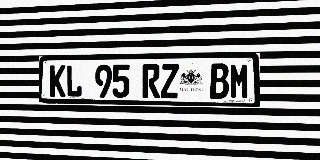5: (112, 64, 130, 98)
9: (95, 65, 112, 98)
B: (210, 63, 229, 99)
K: (50, 65, 65, 97)
L: (66, 65, 82, 97)
M: (230, 63, 249, 99)
R: (142, 64, 160, 98)
Z: (161, 64, 179, 98)
